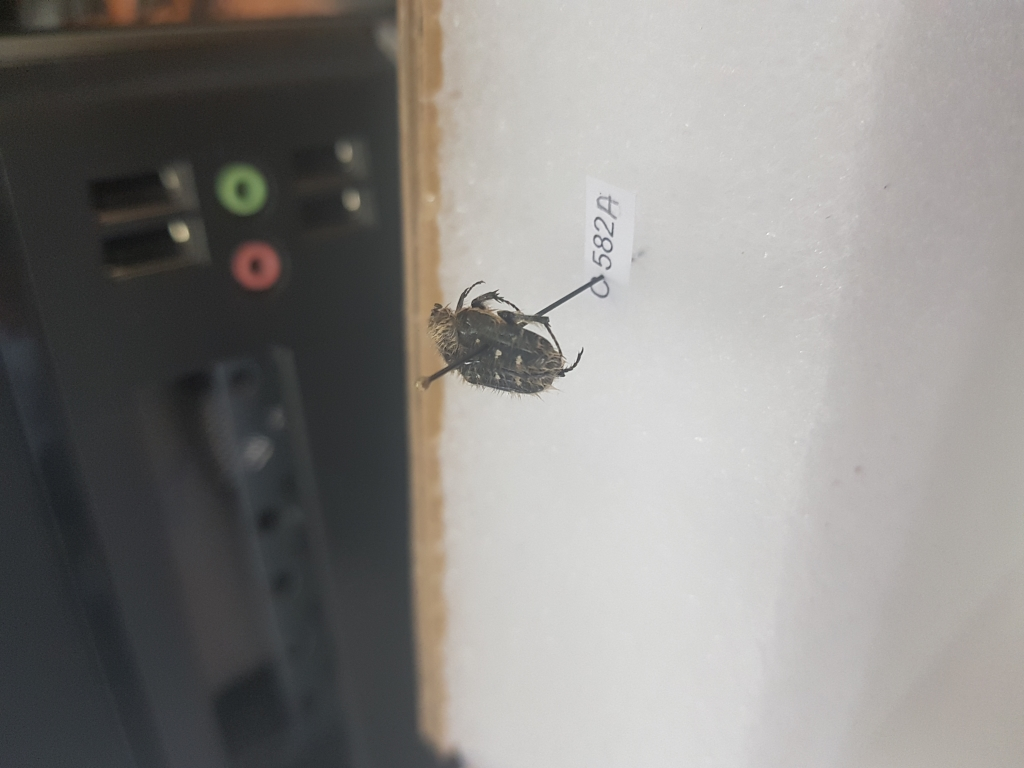Tropinota_hirta: (420, 279, 597, 394)
